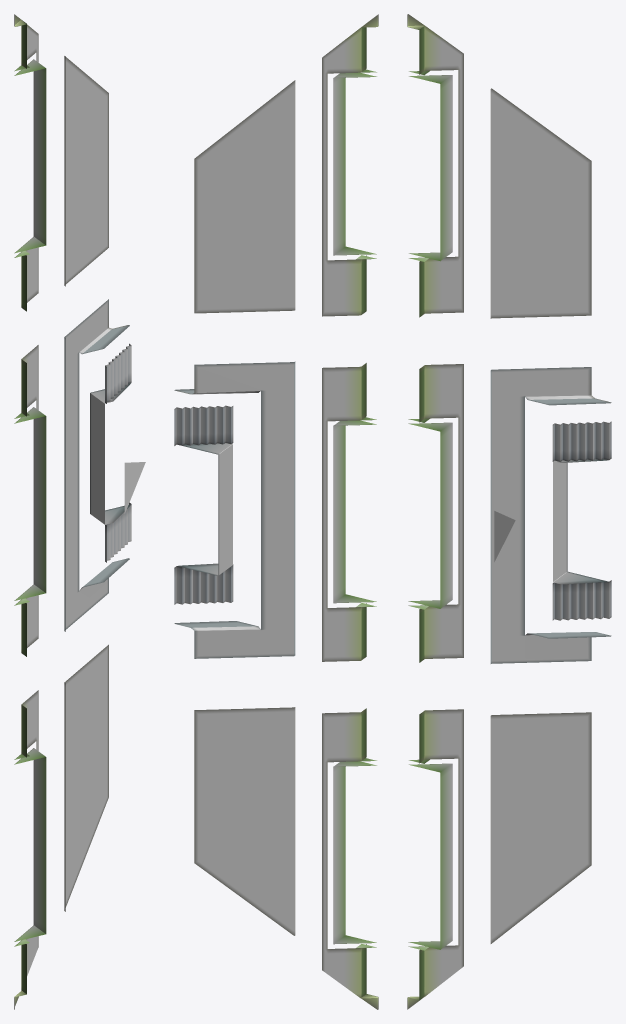
The model's file is SM_000541_merge_concrete03_1.fbx.
3 renders of one model, left to right at view 1: azimuth 30°, elevation 25°; view 2: azimuth 150°, elevation 25°; view 3: azimuth 330°, elevation 25°, orthographic.
Visible parts, largest first — view 1: SM_000541.001; view 2: SM_000541.001; view 3: SM_000541.001.
Part boxes in pixels (x1,y1,x2,y2): SM_000541.001: (14,14,145,1009); SM_000541.001: (174,14,378,1009); SM_000541.001: (407,14,611,1009).
Bounding box in the file's own units: 17.85 × 107 × 10.98.
